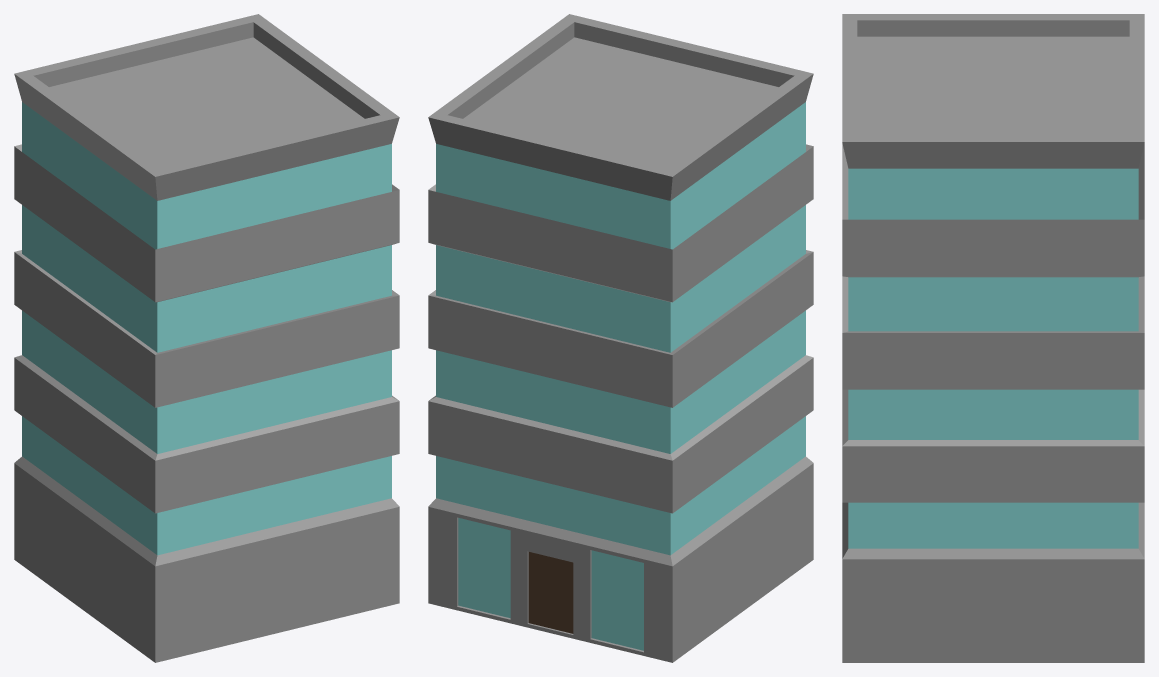
The model's file is OfficeBuilding.fbx.
3 renders of one model, left to right at view 1: azimuth 30°, elevation 25°; view 2: azimuth 150°, elevation 25°; view 3: azimuth 270°, elevation 25°, orthographic. The views are drawn at different scales.
Visible parts, largest first — view 1: Building1; view 2: Building1; view 3: Building1.
Part boxes in pixels (<box>): Building1: <box>14,14,399,662</box>; Building1: <box>428,14,813,662</box>; Building1: <box>842,14,1144,662</box>.
Bounding box in the file's own units: 1179 × 2240 × 1179.
